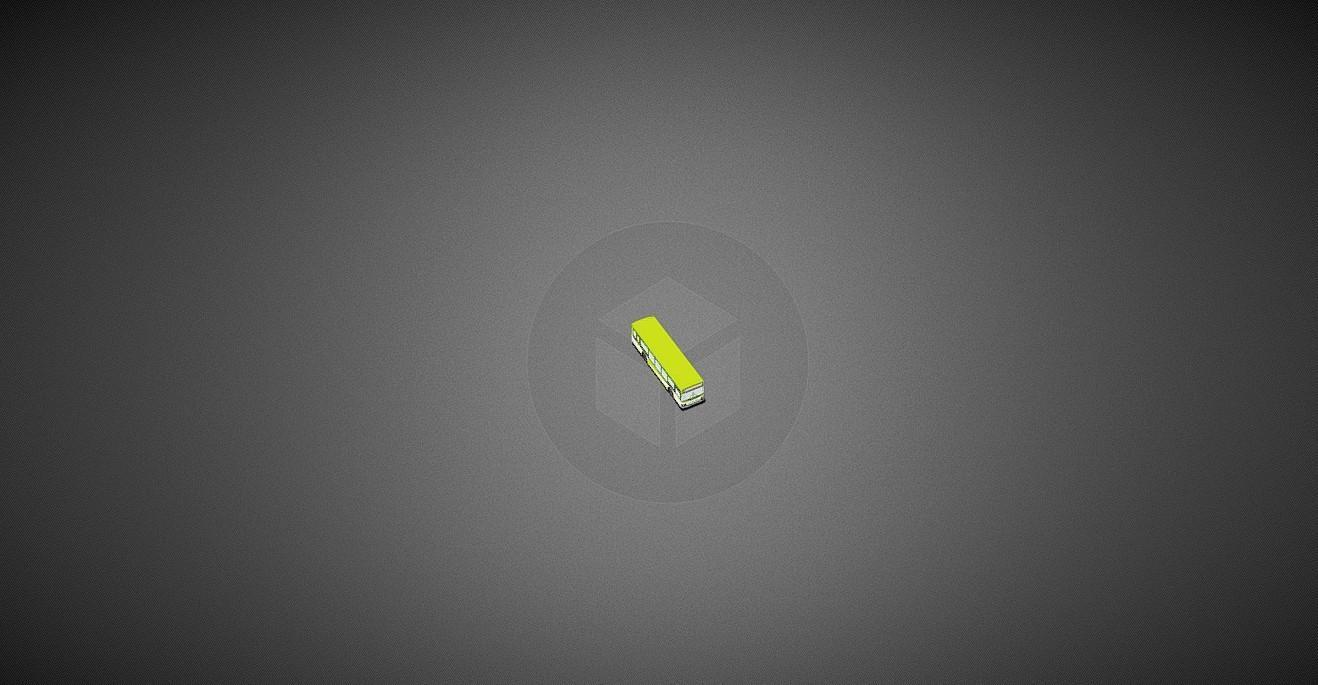Bus: (629, 314, 706, 410)
